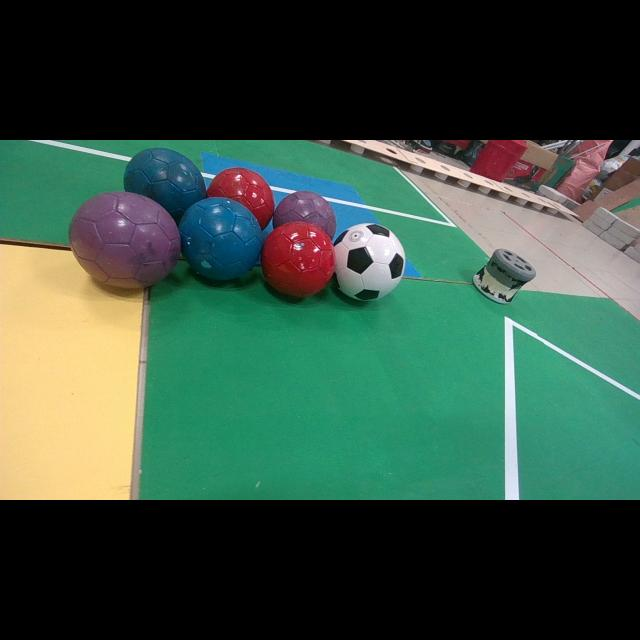B: (179, 198, 262, 280), (125, 148, 206, 224)
P: (69, 191, 181, 288), (272, 190, 336, 239)
R: (261, 221, 335, 298), (206, 168, 275, 229)
